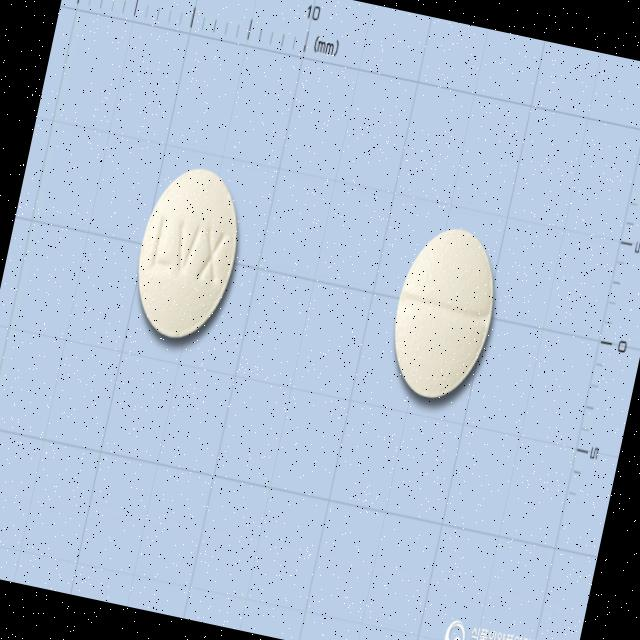Revloxin Tab: (122, 156, 252, 348), (380, 218, 508, 408)
